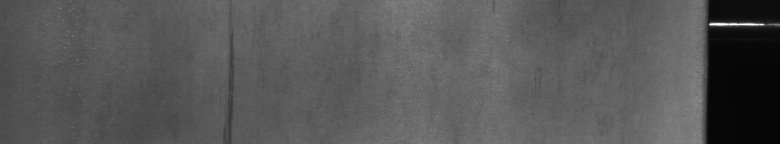hd: (220, 28, 240, 136)
